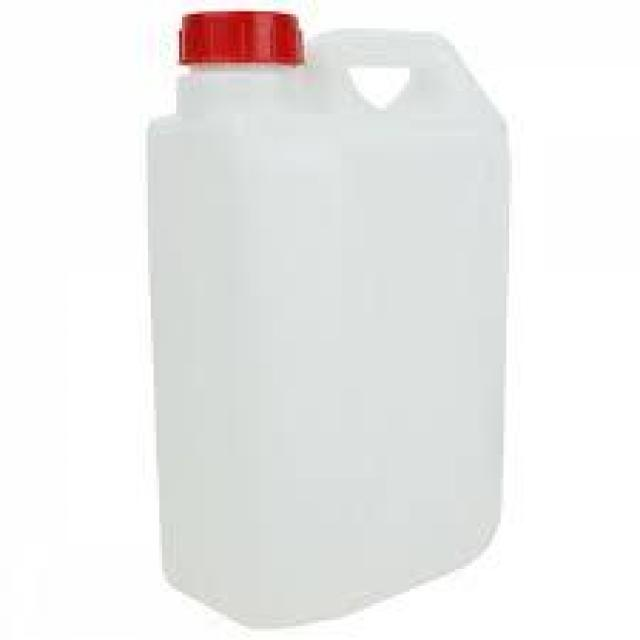inorganic: (139, 11, 521, 634)
